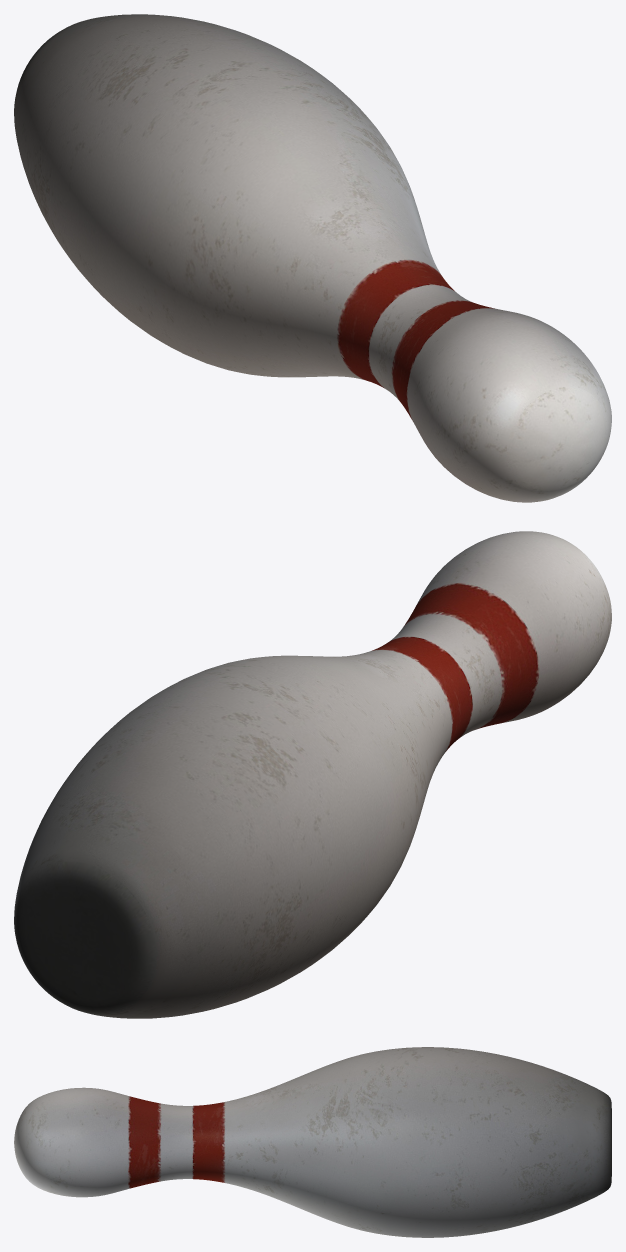
File: 10492_Bowling Pin_v1_max2011_iteration-2.obj
The picture shows the model from 3 angles, top to bottom: view 1: azimuth 30°, elevation 25°; view 2: azimuth 150°, elevation 25°; view 3: azimuth 270°, elevation 25°; orthographic projection. The views are drawn at different scales.
Visible parts, largest first — view 1: objCylinder01; view 2: objCylinder01; view 3: objCylinder01.
Part boxes in pixels (x1,y1,x2,y2): objCylinder01: (14, 14, 611, 502); objCylinder01: (14, 531, 611, 1018); objCylinder01: (14, 1047, 611, 1237).
Bounding box in the file's own units: 12.09 × 12.09 × 37.87.
Materials: 1 (1 with a texture image).
